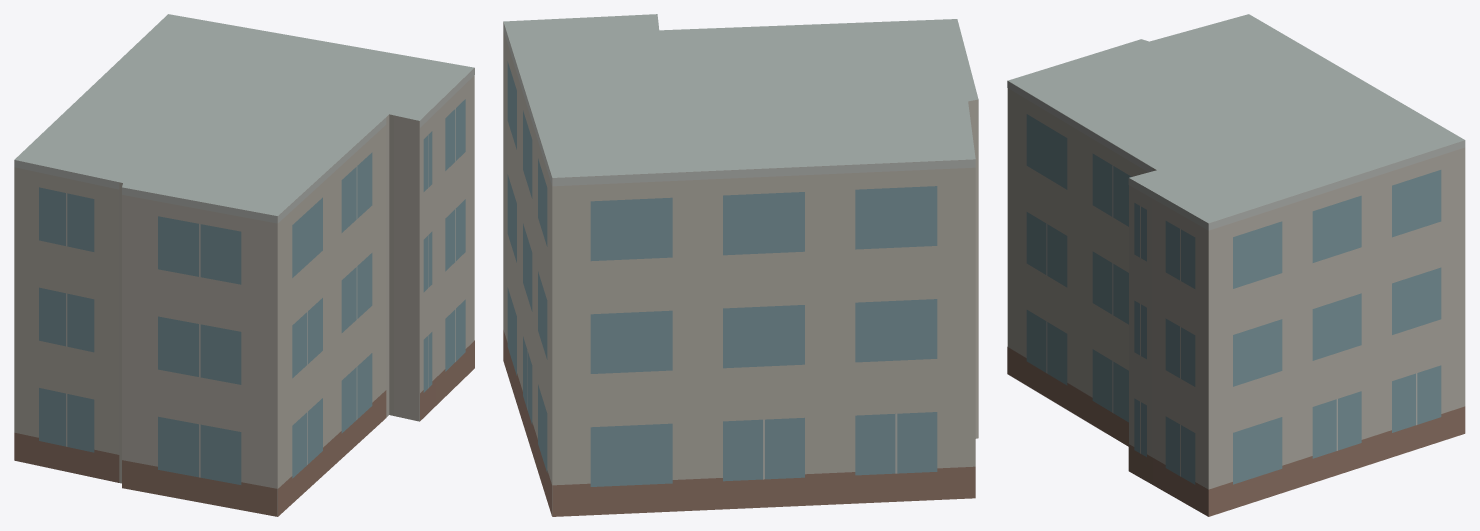
File: survey-upis-32662444.glb
The picture shows the model from 3 angles, left to right: view 1: azimuth 30°, elevation 25°; view 2: azimuth 150°, elevation 25°; view 3: azimuth 270°, elevation 25°; orthographic projection. The views are drawn at different scales.
Parts seen in each view (by area): view 1: survey-upis-32662444.tmp; view 2: survey-upis-32662444.tmp; view 3: survey-upis-32662444.tmp.
Boxes of the visible parts, box(x1,y1,x2,y2) form: survey-upis-32662444.tmp: box(14, 14, 474, 516); survey-upis-32662444.tmp: box(503, 14, 978, 516); survey-upis-32662444.tmp: box(1007, 14, 1465, 516).
Size of the model in its own units: 15.16 by 9.9 by 14.
